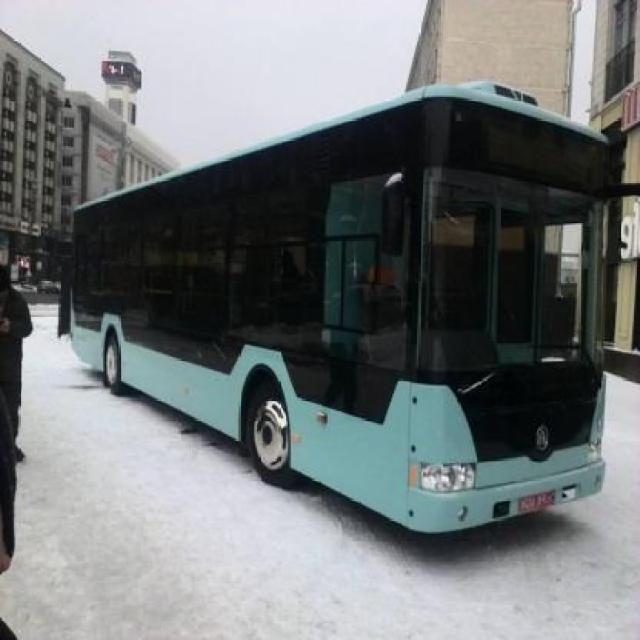bus: (72, 80, 616, 535)
